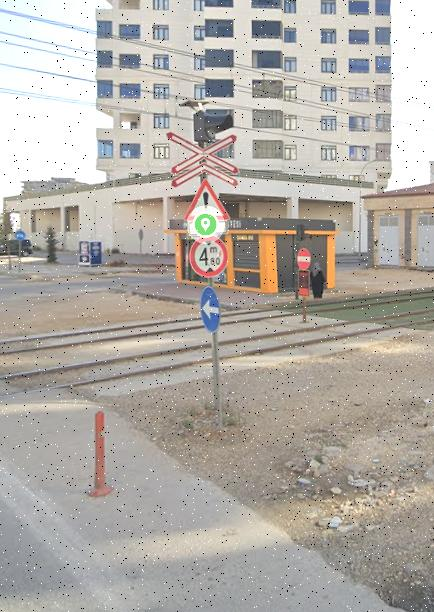turnleft: (195, 284, 226, 333)
